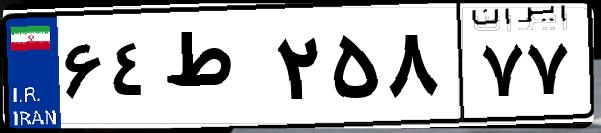2: (270, 28, 330, 110)
4: (110, 28, 158, 98)
5: (330, 28, 385, 110)
6: (57, 26, 110, 100)
7: (475, 38, 525, 113), (525, 38, 570, 115)
8: (385, 28, 445, 110)
ط: (158, 20, 270, 120)
